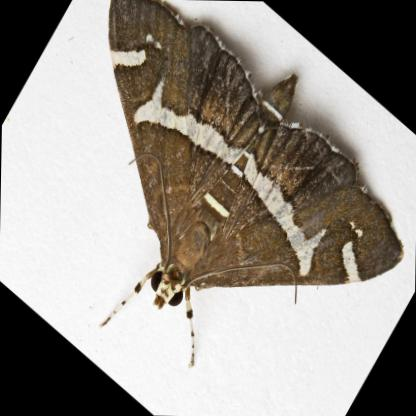Leaf Webber: (102, 0, 403, 373)
